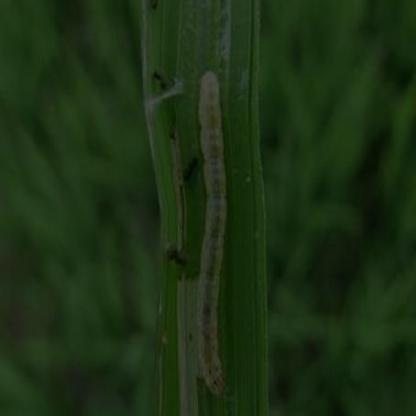leaf-folder: (180, 69, 241, 416)
